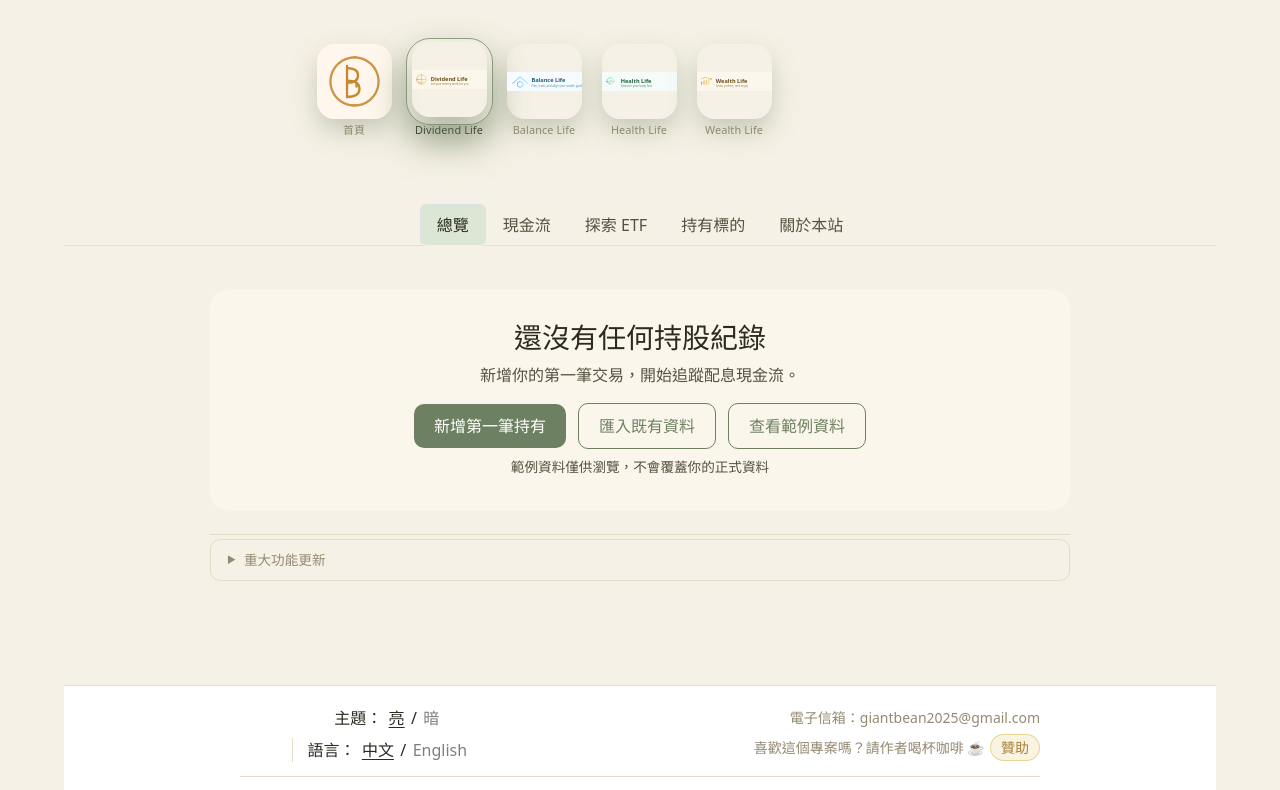
Test: demo mode survives a tab switch and never writes my_transaction_history
Click the button "查看範例資料" at (797, 426), box [728, 404, 866, 450]
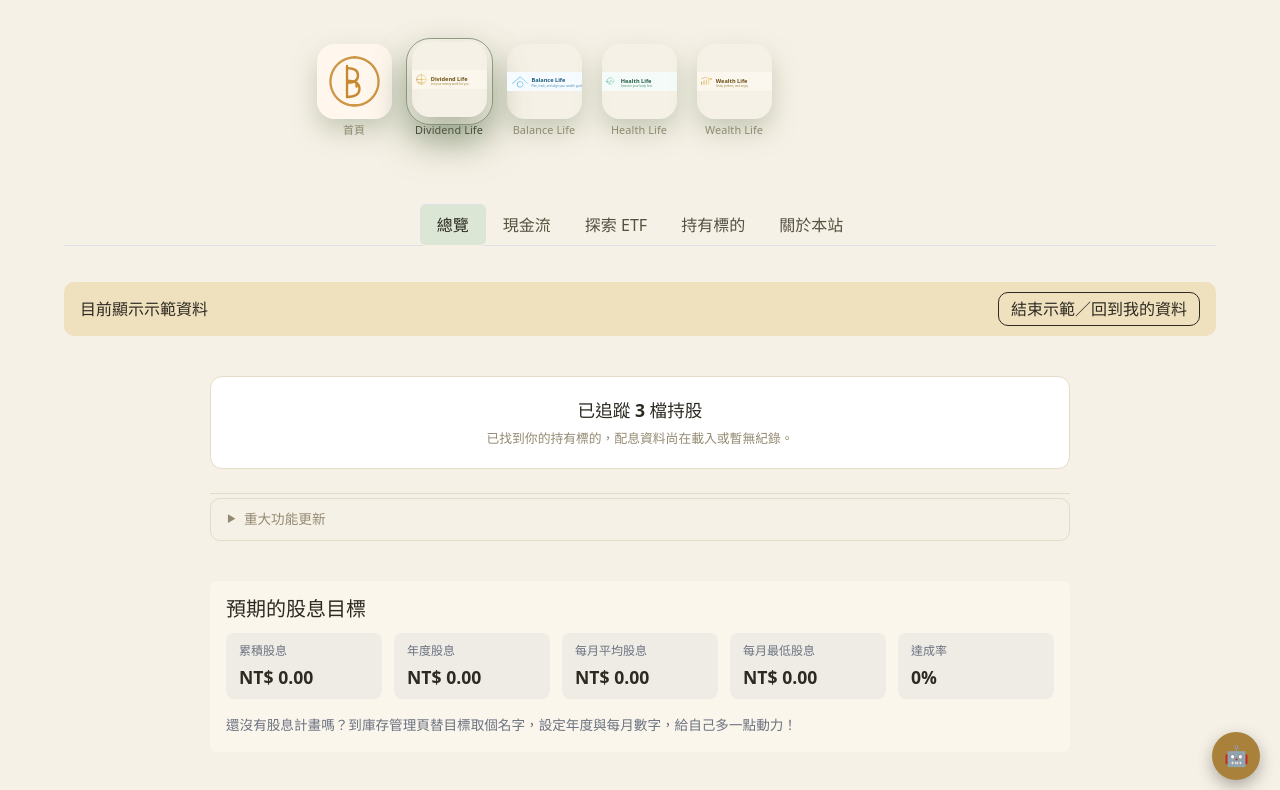
Check: the text "已追蹤 3 檔持股" is shown, box [578, 398, 702, 422]
Check: the text "目前顯示示範資料" is shown, box [80, 297, 208, 321]
Click the tab "現金流" at (527, 225), box [486, 204, 568, 246]
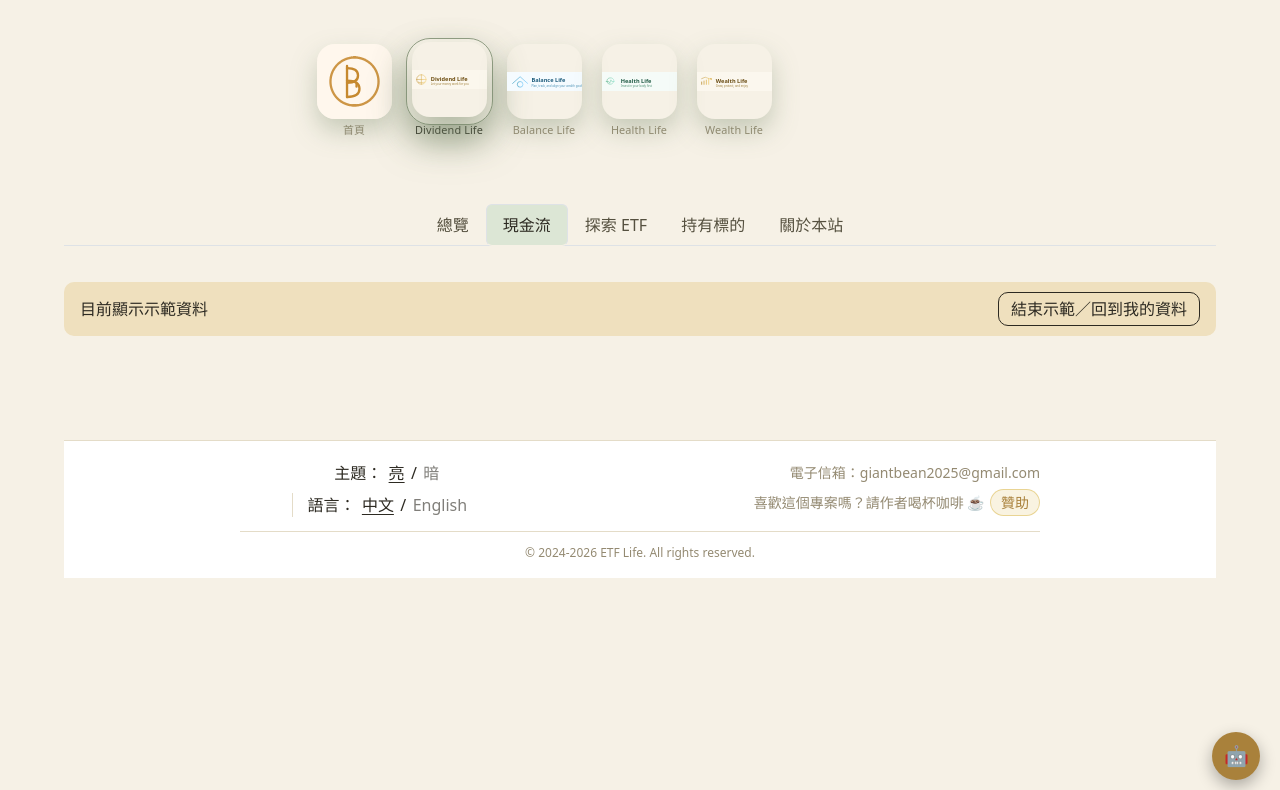
Check: the text "還沒有配息現金流" is not shown
Check: the text "目前顯示示範資料" is shown, box [80, 297, 208, 321]
Click the tab "持有標的" at (713, 225), box [664, 204, 762, 246]
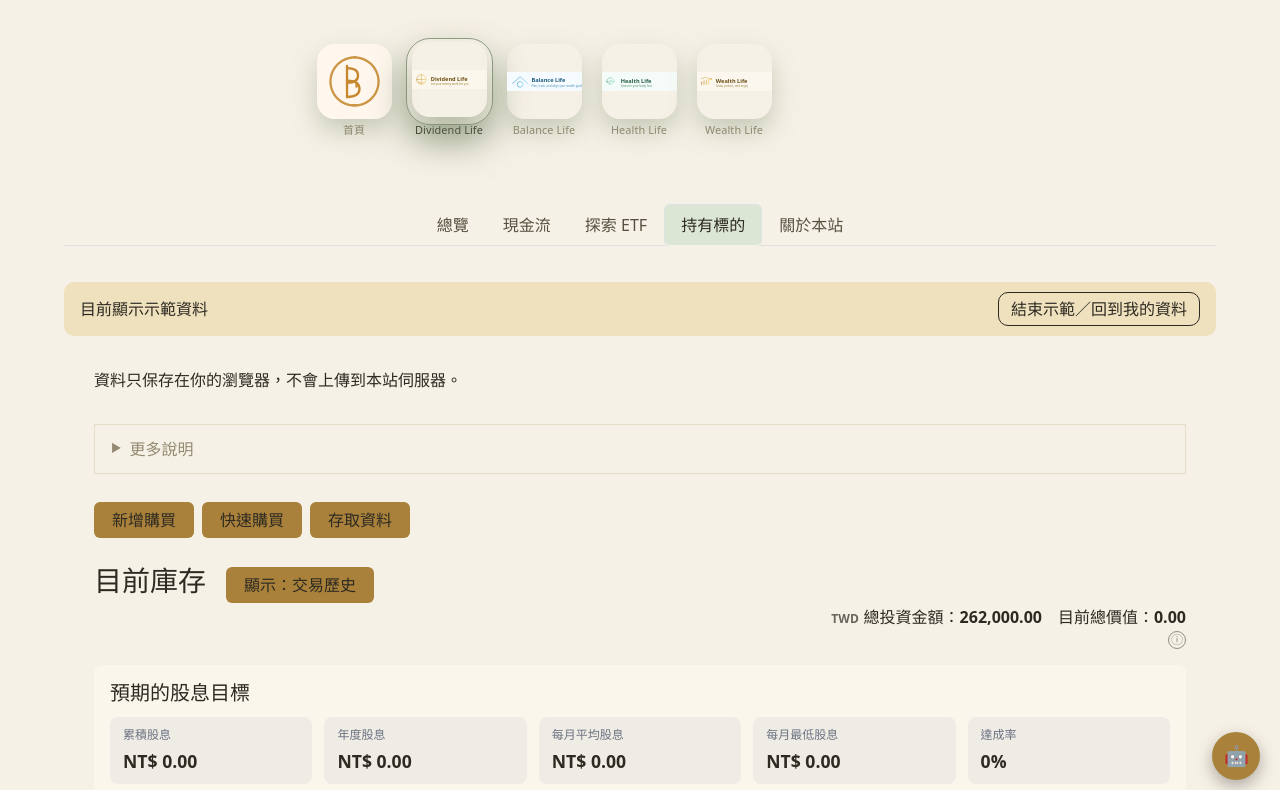
Check: the button "顯示：交易歷史" is shown, box [226, 567, 374, 603]
Click the button "結束示範／回到我的資料" at (1099, 309), box [998, 292, 1200, 326]
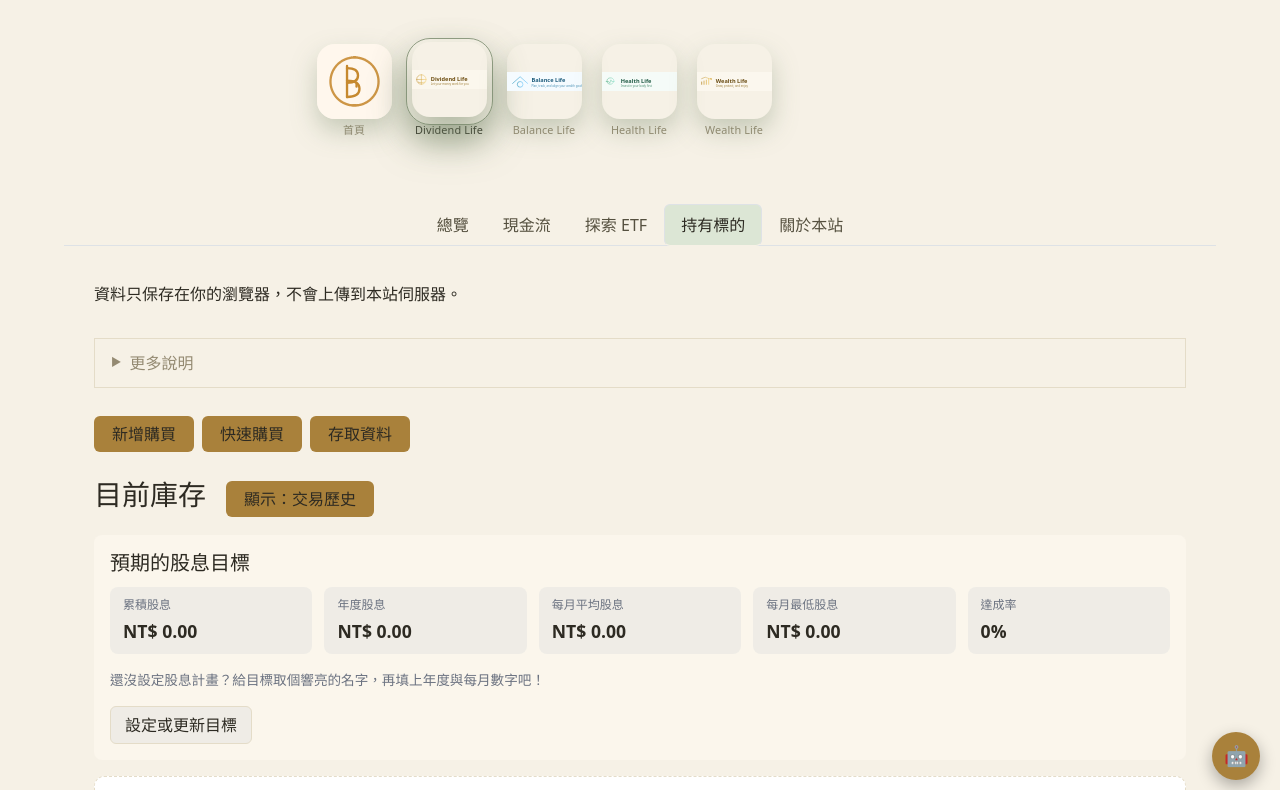
Click the tab "現金流" at (527, 225), box [486, 204, 568, 246]
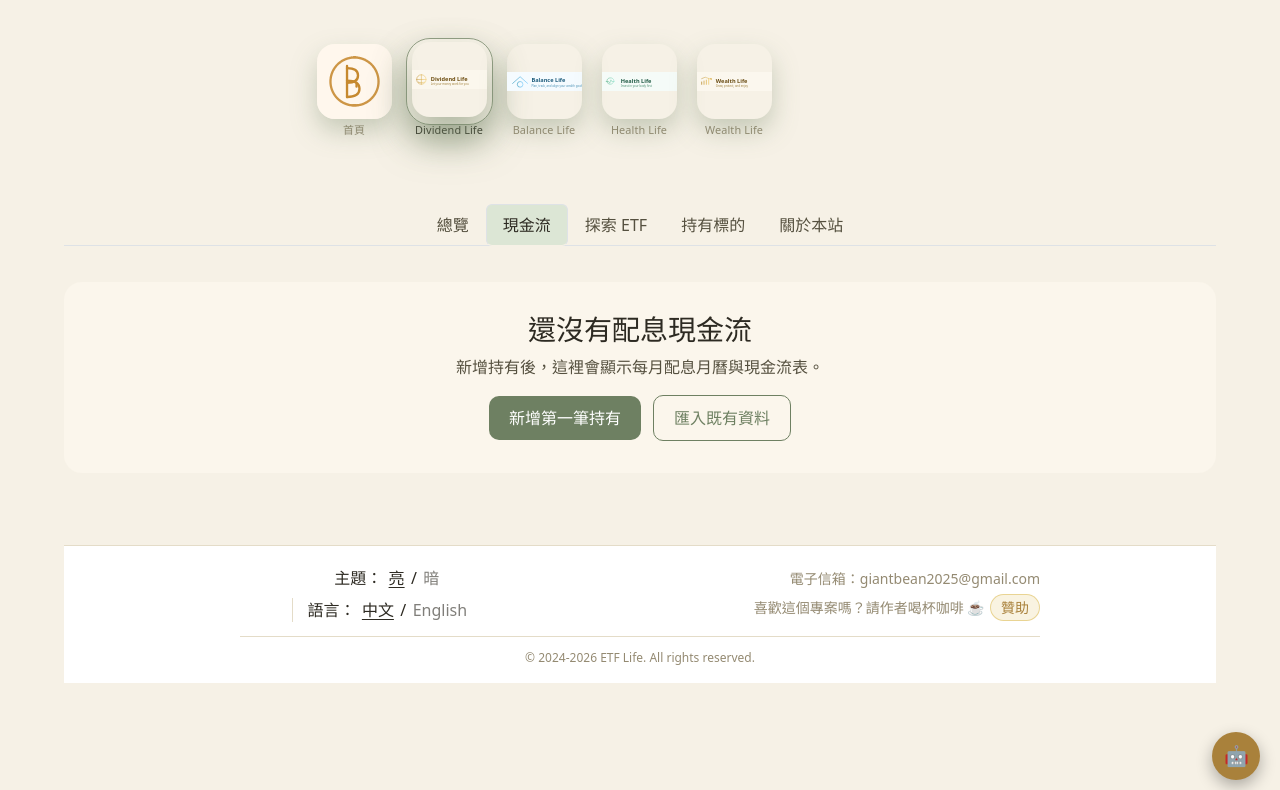
Check: the heading "還沒有配息現金流" is shown, box [528, 315, 752, 346]
